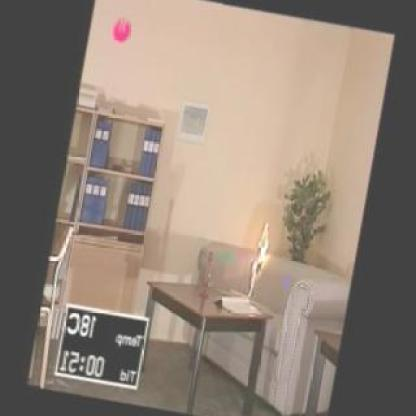Fire: (240, 207, 280, 290)
